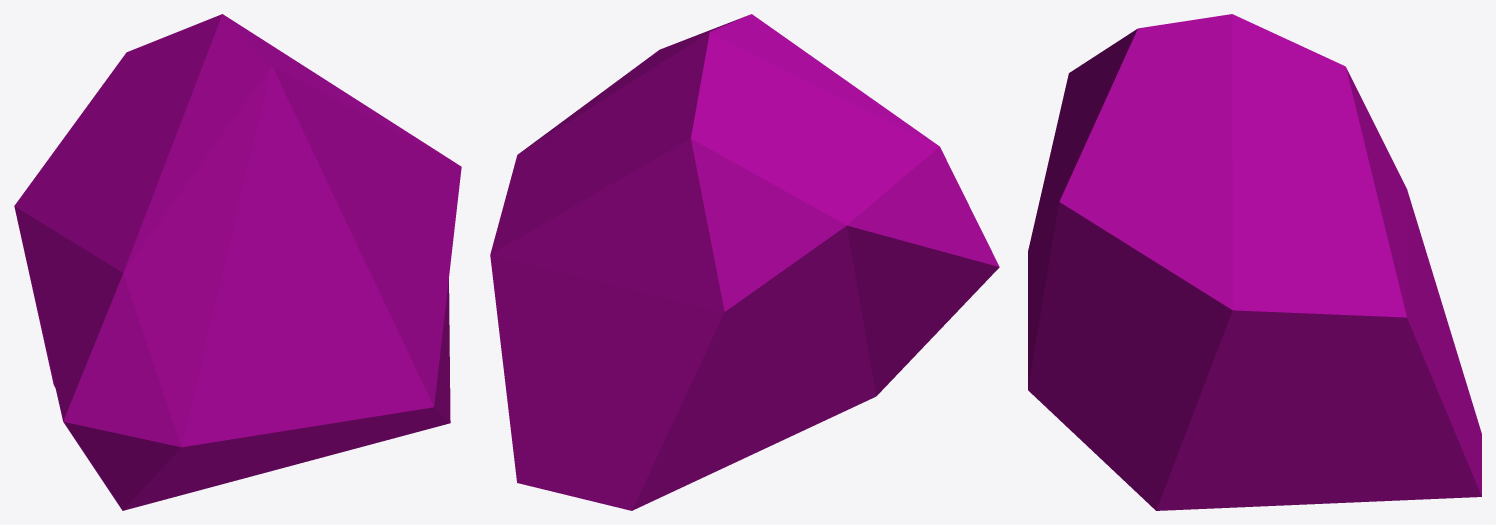
Rendered from Collider_Small_Rock_003.fbx.
3 renders of one model, left to right at view 1: azimuth 30°, elevation 25°; view 2: azimuth 150°, elevation 25°; view 3: azimuth 270°, elevation 25°, orthographic. The views are drawn at different scales.
Parts seen in each view (by area): view 1: Collider_Small_Rock_003; view 2: Collider_Small_Rock_003; view 3: Collider_Small_Rock_003.
Boxes of the visible parts, x1,y1,x2,y2 form: Collider_Small_Rock_003: (14,14,461,510); Collider_Small_Rock_003: (490,14,999,510); Collider_Small_Rock_003: (1028,14,1481,510).
Size of the model in its own units: 0.2335 by 0.2146 by 0.2015.
